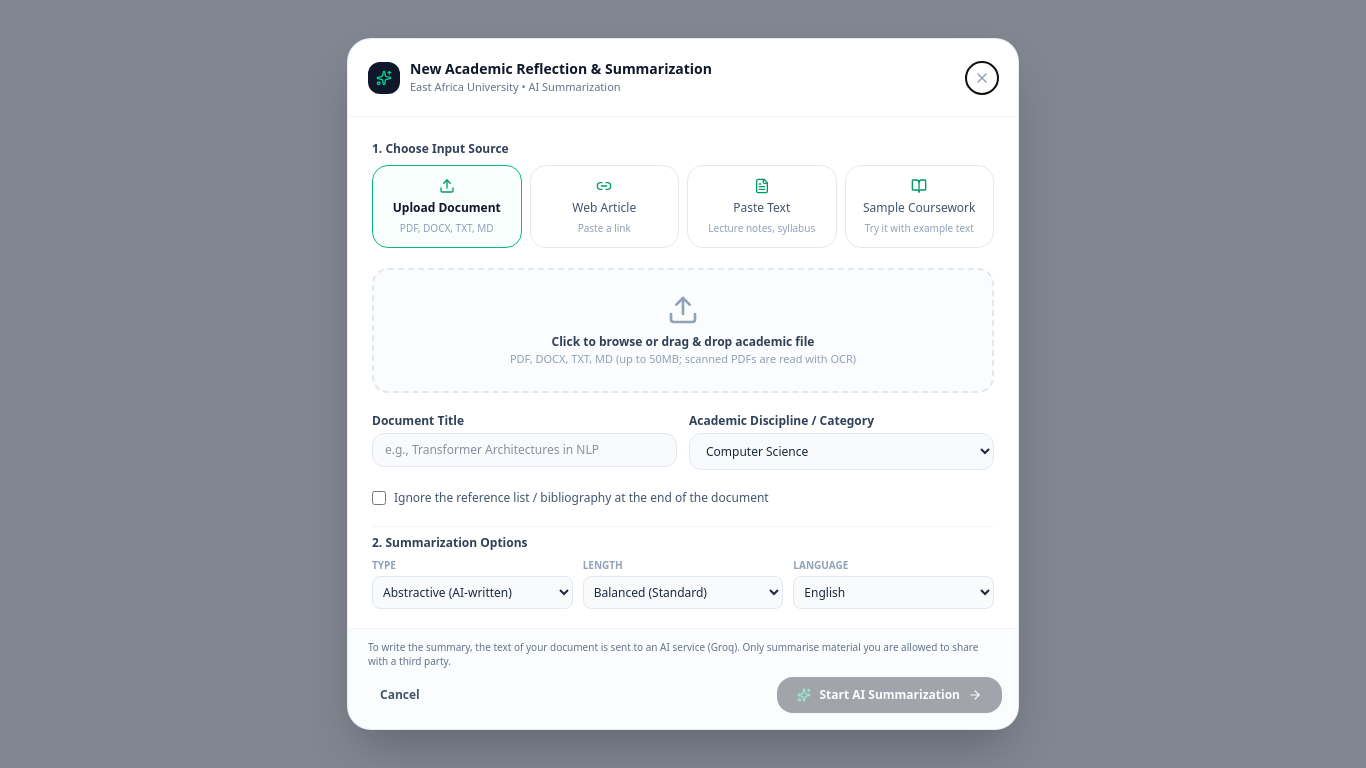
Test: NewSummaryModal: web articles › shows the server error for a blocked address
Click the button "Web Article Paste a link": [604, 207] box top-left (530, 165), bottom-right (679, 248)
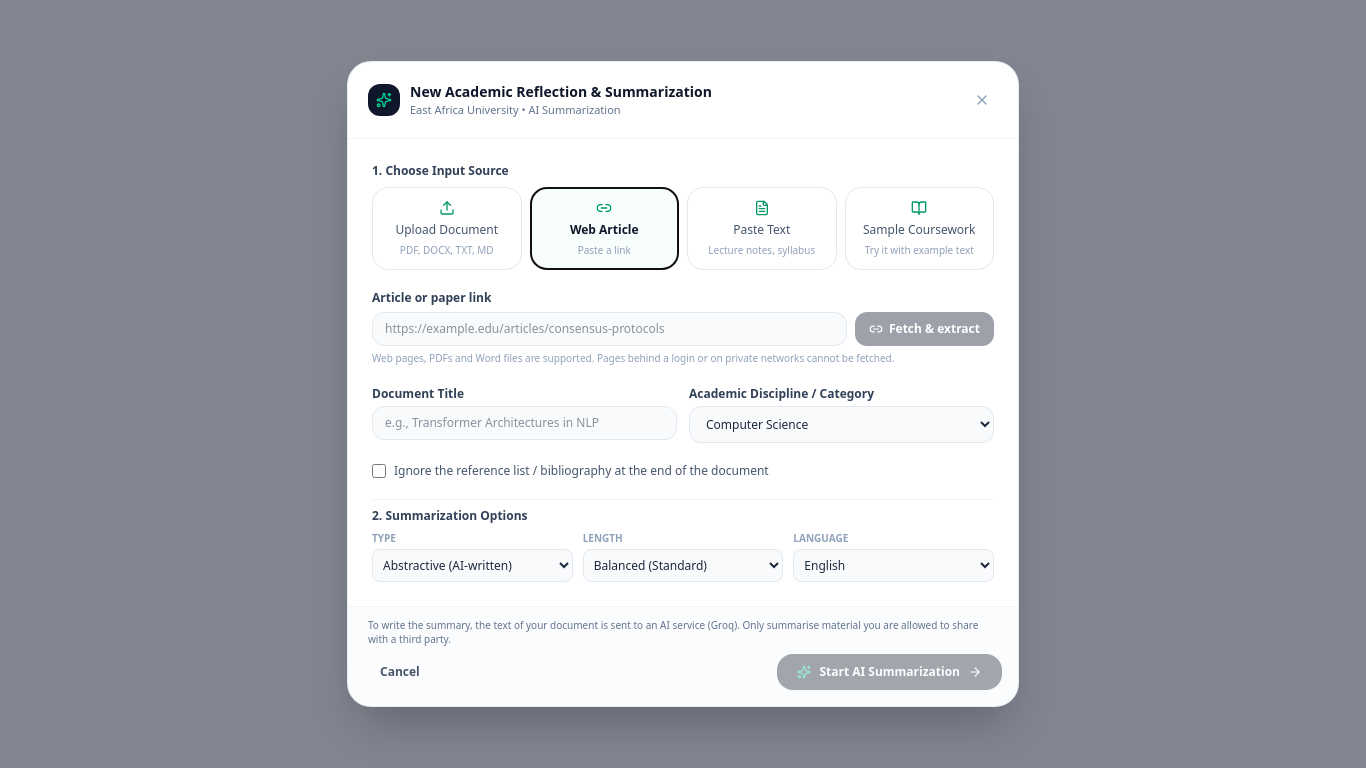
In the field labelled "Article or paper link": [610, 329] box top-left (372, 312), bottom-right (847, 346), type "http://169.254.169.254/latest"
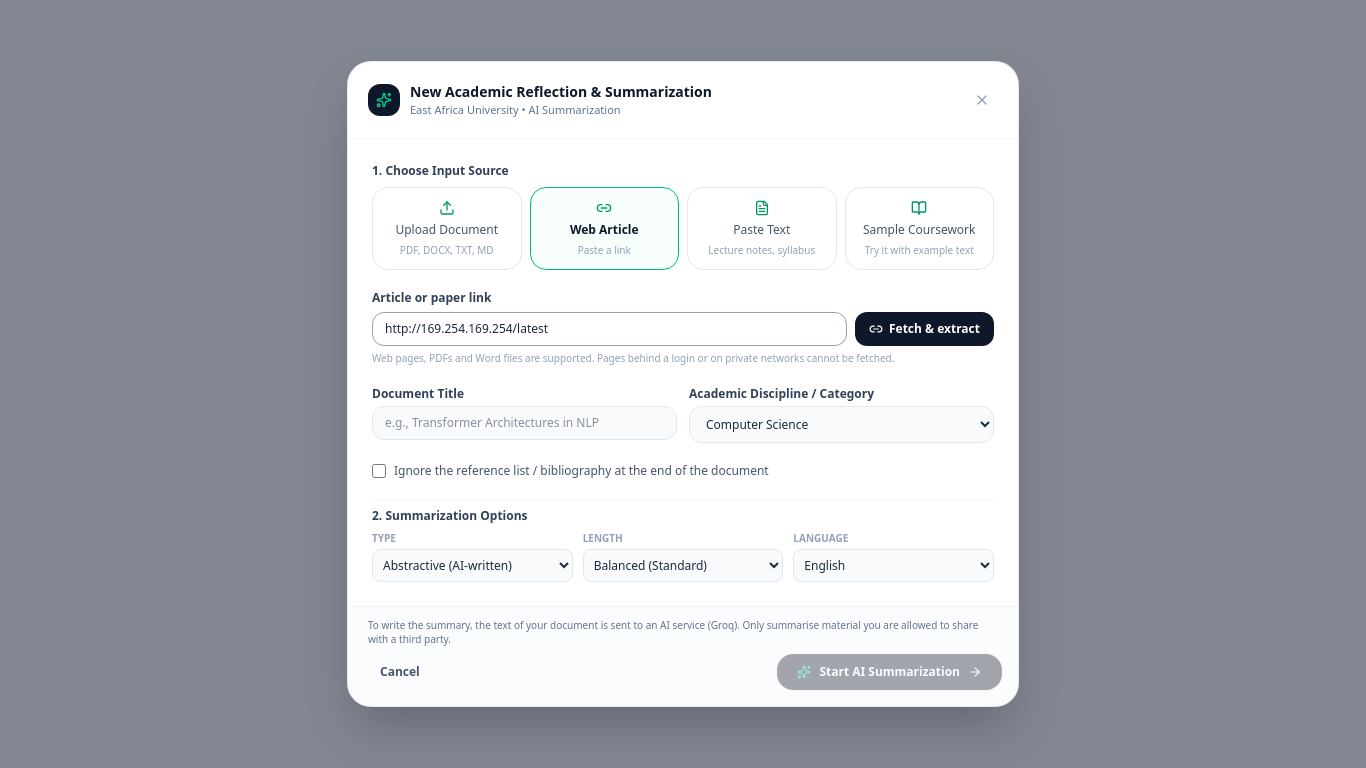
Click the button "Fetch & extract": [924, 329] box top-left (855, 312), bottom-right (994, 346)
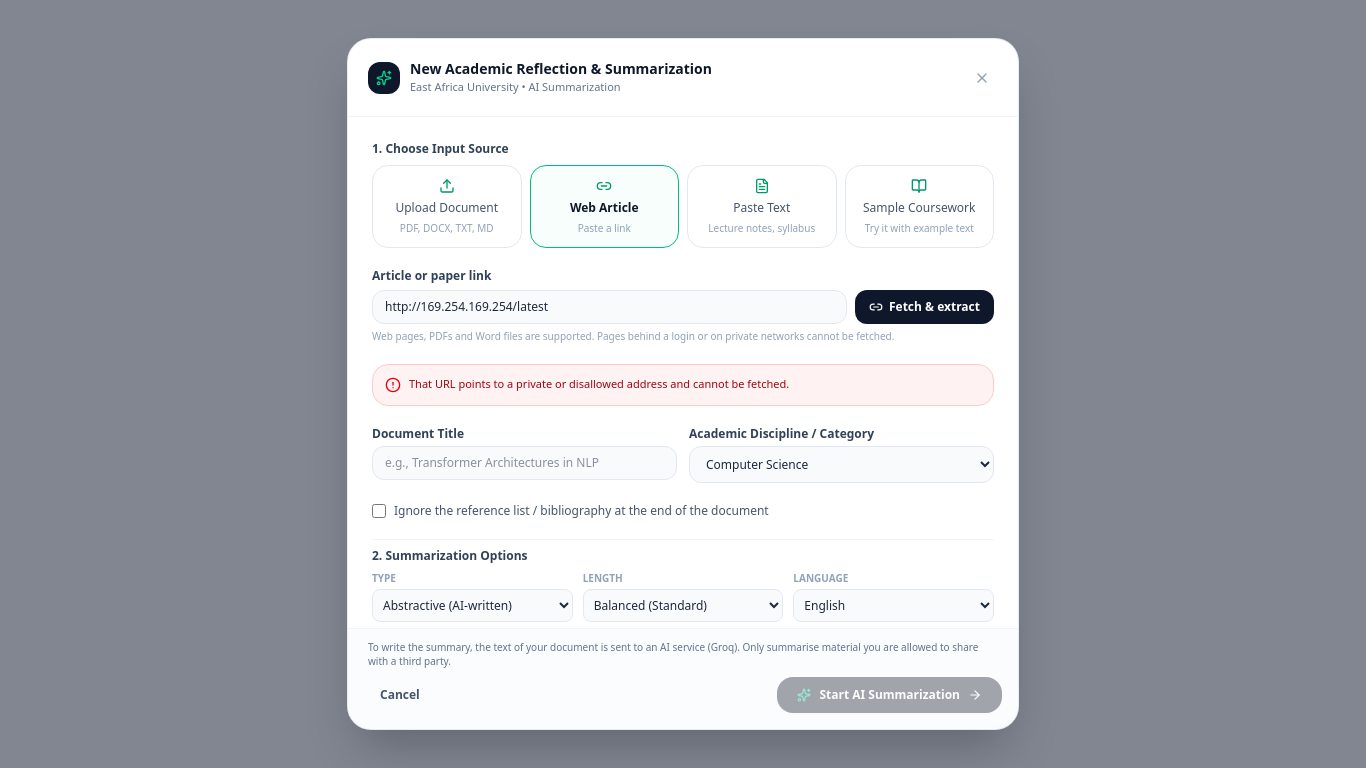
expect the message shows "private or disallowed": met, box top-left (409, 376), bottom-right (789, 391)
